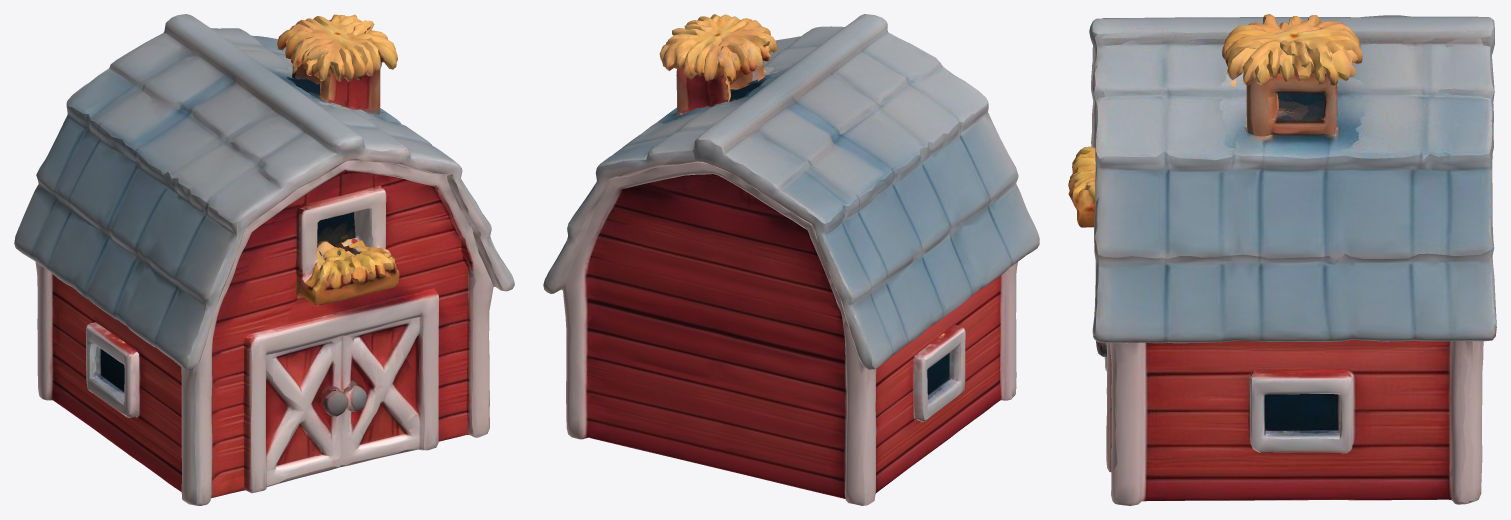
The model's file is barn.glb.
3 views of the same model, side by side, from view 1: azimuth 30°, elevation 25°; view 2: azimuth 150°, elevation 25°; view 3: azimuth 270°, elevation 25° (orthographic). The views are drawn at different scales.
Visible parts, largest first — view 1: barn; view 2: barn; view 3: barn.
Boxes of the visible parts, <box> form: barn: <box>14,14,514,505</box>; barn: <box>543,14,1039,505</box>; barn: <box>1068,14,1496,505</box>.
Size of the model in its own units: 0.955 by 1 by 0.8975.
1 material, 1 textured.
